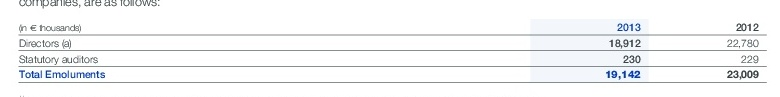table: (0, 0, 780, 97)
